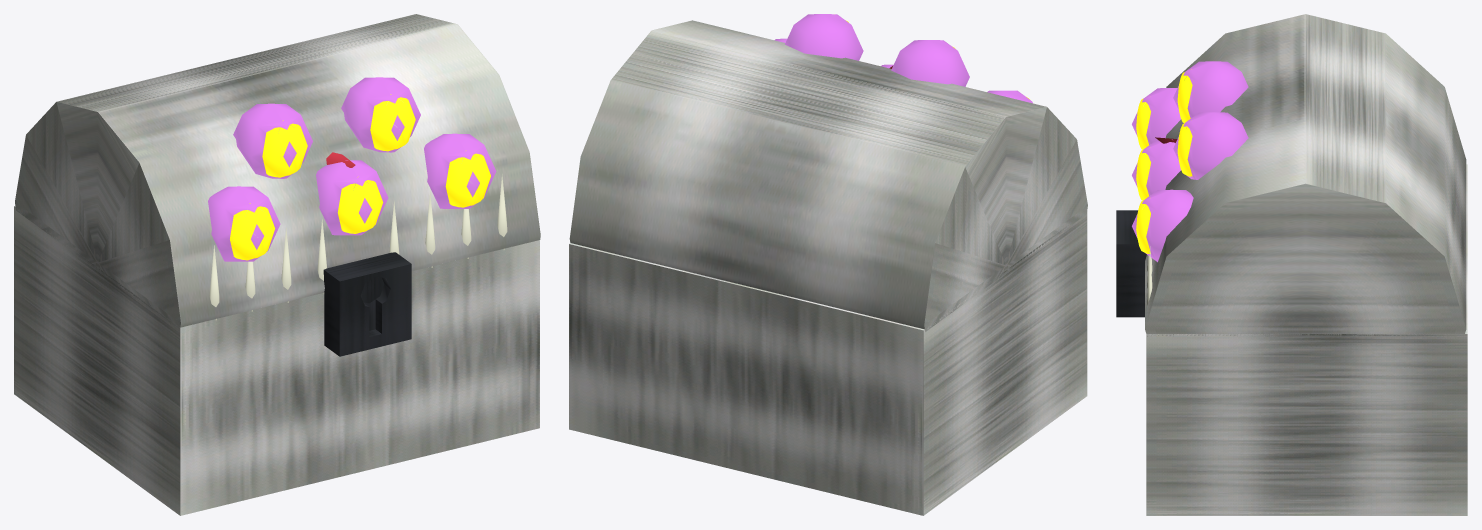
File: chest.gltf
3 views of the same model, side by side, from view 1: azimuth 30°, elevation 25°; view 2: azimuth 150°, elevation 25°; view 3: azimuth 270°, elevation 25° (orthographic). The views are drawn at different scales.
Parts seen in each view (by area): view 1: Base2, Top2, Eye42, Eye52, Eye32, Eye23, Eye2; view 2: Top2, Base2, Eye42, Eye52; view 3: Top2, Base2, Eye42, Eye52, Eye23, Eye32, Eye2.
Boxes of the visible parts, box(x1,y1,x2,y2) form: Base2: box(14, 206, 539, 515); Top2: box(15, 14, 540, 330); Eye42: box(341, 77, 420, 152); Eye52: box(233, 103, 312, 178); Eye32: box(208, 186, 280, 261); Eye23: box(424, 133, 496, 208); Eye2: box(316, 160, 388, 235); Top2: box(569, 20, 1087, 331); Base2: box(569, 212, 1087, 515); Eye42: box(785, 14, 863, 60); Eye52: box(891, 40, 969, 86); Top2: box(1145, 14, 1466, 336); Base2: box(1116, 164, 1467, 515); Eye42: box(1173, 112, 1248, 179); Eye52: box(1173, 61, 1248, 122); Eye23: box(1132, 189, 1193, 262); Eye32: box(1132, 88, 1180, 149); Eye2: box(1132, 139, 1180, 200).
Bounding box in the file's own units: 1 × 0.9458 × 0.8746.
Materials: 7 (2 with a texture image).
